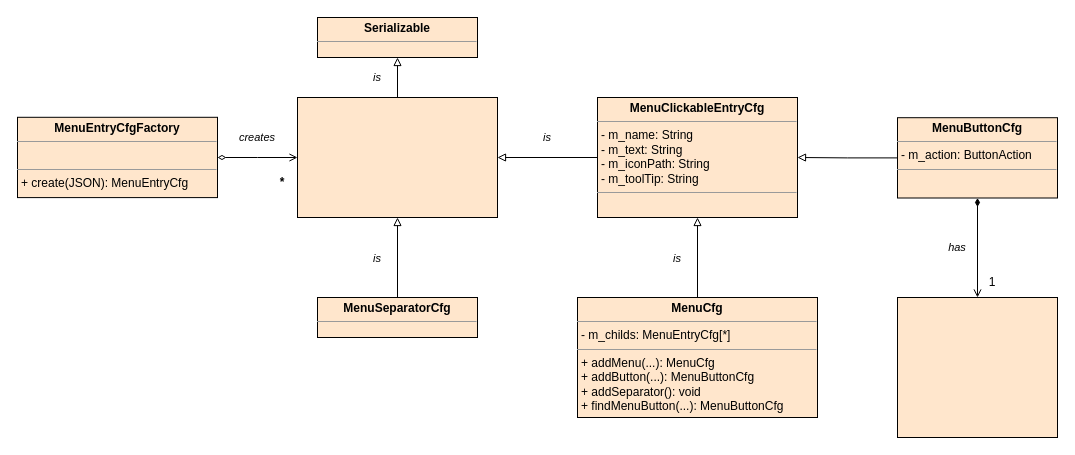
Some shapes in this 1075 by 455 pixel diagram are drawn without their labels. Each missing label, with the box of its shape:
<<enumeration>> ButtonAction NotifyOwner Clear Delete Select SelectAll: (896, 296, 1058, 438)
MenuEntryCfg - + createCopy() = 0 : MenuEntryCfg* + getClassName() = 0 : String: (296, 96, 498, 218)
